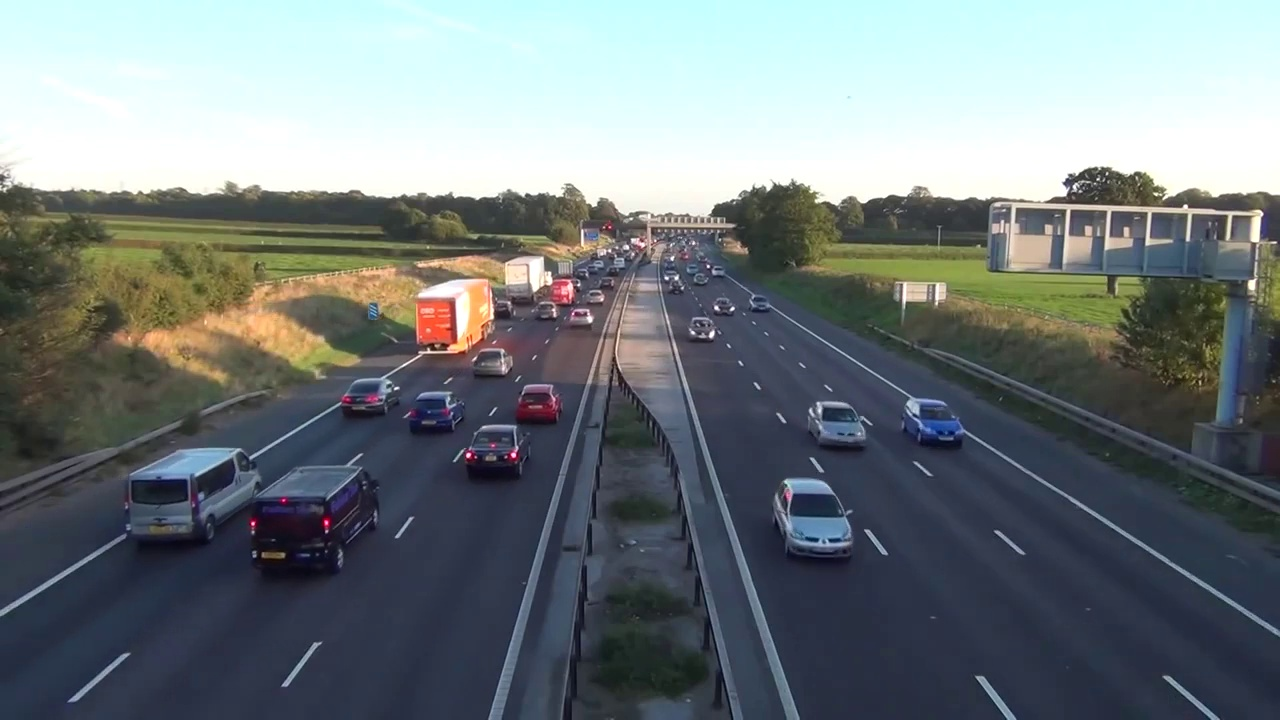bus: (769, 474, 863, 565), (895, 395, 966, 453), (463, 423, 533, 479), (808, 400, 868, 456), (406, 390, 472, 432), (512, 375, 567, 423), (339, 379, 404, 418), (472, 344, 515, 377), (687, 315, 717, 344), (494, 298, 520, 324), (710, 296, 739, 319), (747, 293, 772, 316), (567, 308, 595, 328), (532, 303, 562, 321), (585, 290, 606, 307), (668, 279, 685, 296), (662, 270, 680, 284), (596, 276, 614, 290), (693, 273, 710, 286), (544, 269, 554, 290), (663, 260, 678, 272), (574, 269, 590, 280), (705, 259, 718, 272), (571, 279, 583, 292), (605, 265, 619, 276), (684, 264, 698, 274), (713, 264, 723, 278), (587, 265, 599, 275), (696, 255, 710, 263), (594, 260, 605, 269), (662, 254, 675, 261)
car: (413, 278, 498, 358), (502, 254, 548, 306), (557, 260, 574, 279)
lorry: (244, 458, 391, 581), (123, 439, 268, 549), (550, 279, 577, 305), (612, 258, 627, 268)
